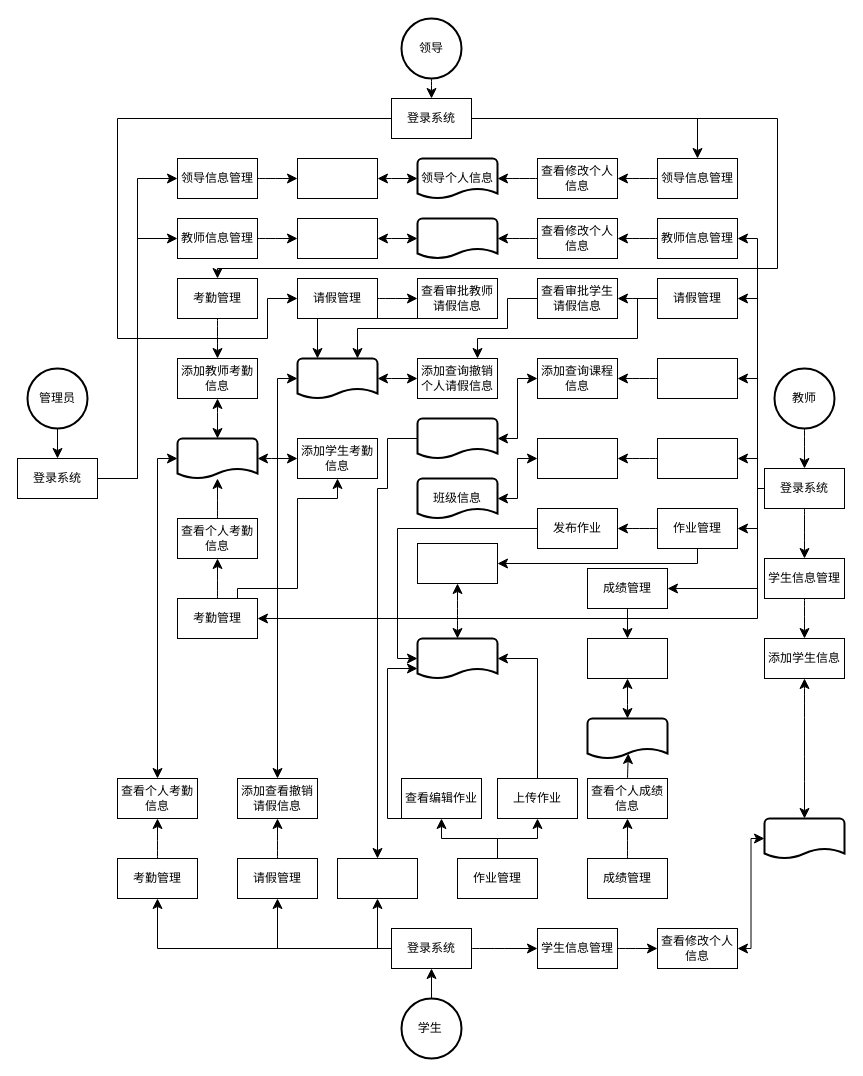
This 863x1076 diagram has some shape labels left out. The shapes that lost their labels are listed below. From the top down, each one's centre as x and y in pixels, then its label:
point (337, 178): 添加领导信息
point (337, 238): 添加教师信息
point (457, 238): 教师个人信息
point (337, 378): 请假信息
point (697, 378): 课程管理
point (217, 458): 考勤信息
point (457, 438): 课程信息
point (577, 458): 添加修改班级信息
point (697, 458): 班级管理
point (457, 563): 修改作业
point (457, 658): 作业信息
point (627, 658): 添加成绩信息
point (627, 738): 成绩信息
point (804, 838): 学生个人信息
point (377, 878): 课表查询
